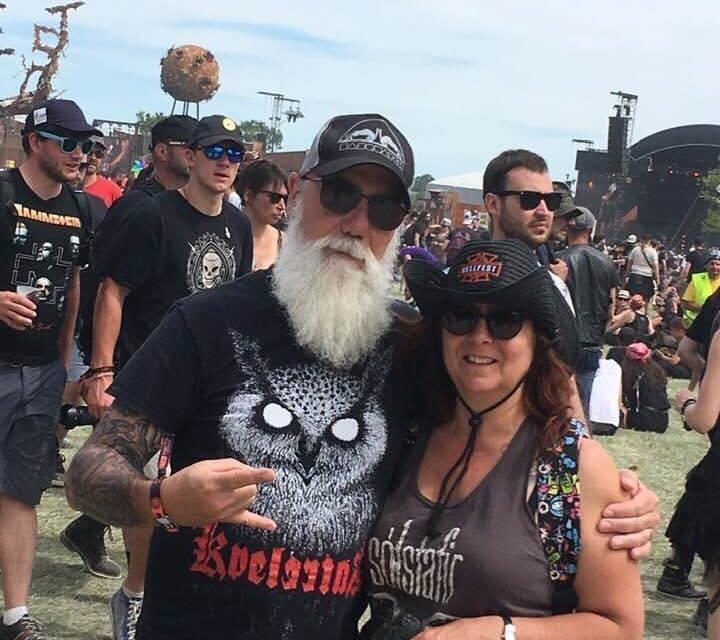without_mask: (312, 175, 394, 291), (449, 299, 519, 386), (516, 169, 550, 237), (45, 129, 81, 180), (204, 145, 236, 187), (260, 185, 286, 227)
